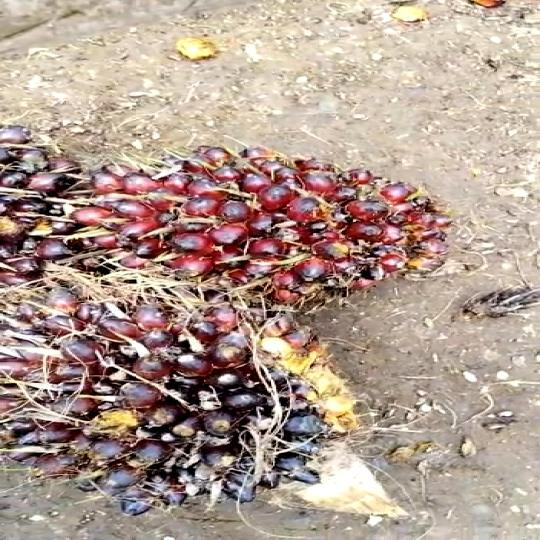kurang masak: (0, 273, 362, 523), (109, 134, 453, 311), (0, 130, 142, 276)
